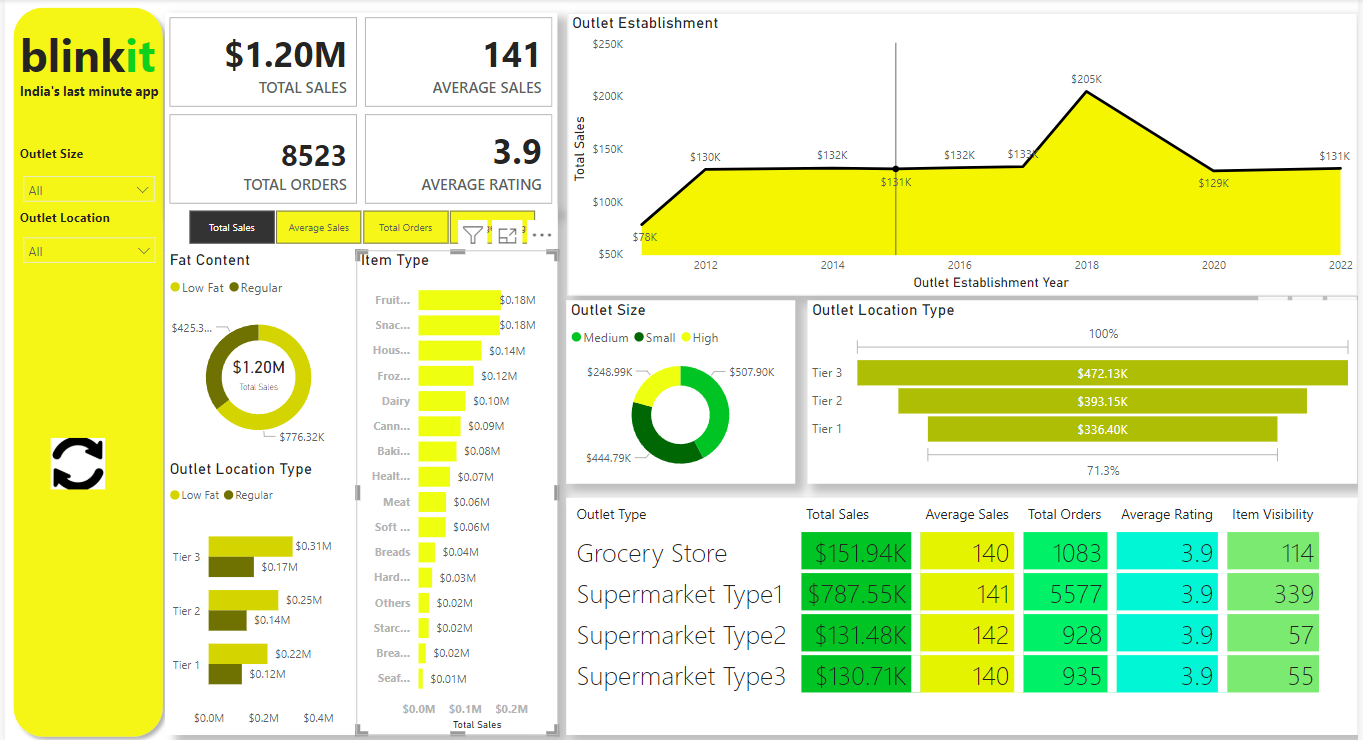

What the dashboard file says about the page in this screenshot:
{"tool":"powerbi","page":{"name":"Page 1","canvas":[1450,800],"ordinal":0},"visuals":[{"type":"shape","box":[0,0,178.3,800.3],"z":0},{"type":"textbox","box":[10.9,21.7,167.1,80.2],"z":1000},{"type":"textbox","box":[10.9,84.2,167.1,36.7],"z":2000},{"type":"cardVisual","fields":{"Data":["DAX.Total Sales","DAX.Average Sales","DAX.Total Orders","DAX.Average Rating"]},"box":[171.6,14.7,420.9,210.5],"z":3000},{"type":"shape","box":[178.3,225.2,414.2,564.3],"z":4000},{"type":"donutChart","title":"Fat Content","fields":{"Y":["DAX.Total Sales"],"Category":["BlinkIT Grocery Data.Item Fat Content"]},"box":[171.6,269.4,201.1,223.9],"z":5000},{"type":"slicer","fields":{"Values":["Metrics.Metrics"]},"box":[171.6,219.8,420.9,49.6],"z":6000},{"type":"shape","box":[376.7,269.4,9.4,520.1],"z":7000},{"type":"barChart","title":"Item Type","fields":{"Y":["DAX.Total Sales"],"Category":["BlinkIT Grocery Data.Item Type"]},"box":[376.7,269.4,215.8,520.1],"z":8000},{"type":"clusteredBarChart","title":"Outlet Location Type","fields":{"Y":["DAX.Total Sales"],"Category":["BlinkIT Grocery Data.Outlet Location Type"],"Series":["BlinkIT Grocery Data.Item Fat Content"]},"box":[171.6,493.3,201.1,296.2],"z":9000},{"type":"lineChart","title":"Outlet Establishment","fields":{"Category":["BlinkIT Grocery Data.Outlet Establishment Year"],"Y":["DAX.Total Sales"]},"box":[603.2,14.7,847.2,303],"z":10000},{"type":"card","fields":{"Values":["DAX.Total Sales"]},"box":[234.6,372.7,75.1,56.3],"z":11000},{"type":"donutChart","title":"Outlet Size","fields":{"Category":["BlinkIT Grocery Data.Outlet Size"],"Y":["DAX.Total Sales"]},"box":[601.9,323.1,245.3,197.1],"z":12000},{"type":"funnel","title":"Outlet Location Type","fields":{"Category":["BlinkIT Grocery Data.Outlet Location Type"],"Y":["DAX.Total Sales"]},"box":[860.6,323.1,589.8,197.1],"z":13000},{"type":"tableEx","fields":{"Values":["BlinkIT Grocery Data.Outlet Type","DAX.Total Sales","DAX.Average Sales","DAX.Total Orders","DAX.Average Rating","DAX.Item Identifier"]},"box":[601.9,534.9,848.5,254.7],"z":14000},{"type":"image","box":[44.2,461.1,68.4,73.7],"z":15000},{"type":"slicer","fields":{"Values":["BlinkIT Grocery Data.Outlet Size"]},"box":[9.4,179.6,160.9,40.2],"z":16000},{"type":"textbox","box":[10.7,151.5,92.5,33.5],"z":17000},{"type":"slicer","fields":{"Values":["BlinkIT Grocery Data.Outlet Location Type"]},"box":[9.4,245.3,162.2,46.9],"z":18000},{"type":"textbox","box":[10.7,219.8,159.5,33.5],"z":19000}]}

Visuals, with their boxes in screenshot pixels (x1, y1, x2, y2), scaled from the page's 1450x800 canvas onto the 1363x740 screenshot:
shape: 0:0:168:739
textbox: 10:20:167:94
textbox: 10:78:167:112
cardVisual - DAX.Total Sales x DAX.Average Sales: 161:14:557:208
shape: 168:208:557:730
"Fat Content" donutChart: 161:249:350:456
slicer - Metrics.Metrics: 161:203:557:249
shape: 354:249:363:730
"Item Type" barChart: 354:249:557:730
"Outlet Location Type" clusteredBarChart: 161:456:350:730
"Outlet Establishment" lineChart: 567:14:1362:294
card - DAX.Total Sales: 221:345:291:397
"Outlet Size" donutChart: 566:299:796:481
"Outlet Location Type" funnel: 809:299:1362:481
tableEx - BlinkIT Grocery Data.Outlet Type x DAX.Total Sales: 566:495:1362:730
image: 42:427:106:495
slicer - BlinkIT Grocery Data.Outlet Size: 9:166:160:203
textbox: 10:140:97:171
slicer - BlinkIT Grocery Data.Outlet Location Type: 9:227:161:270
textbox: 10:203:160:234
